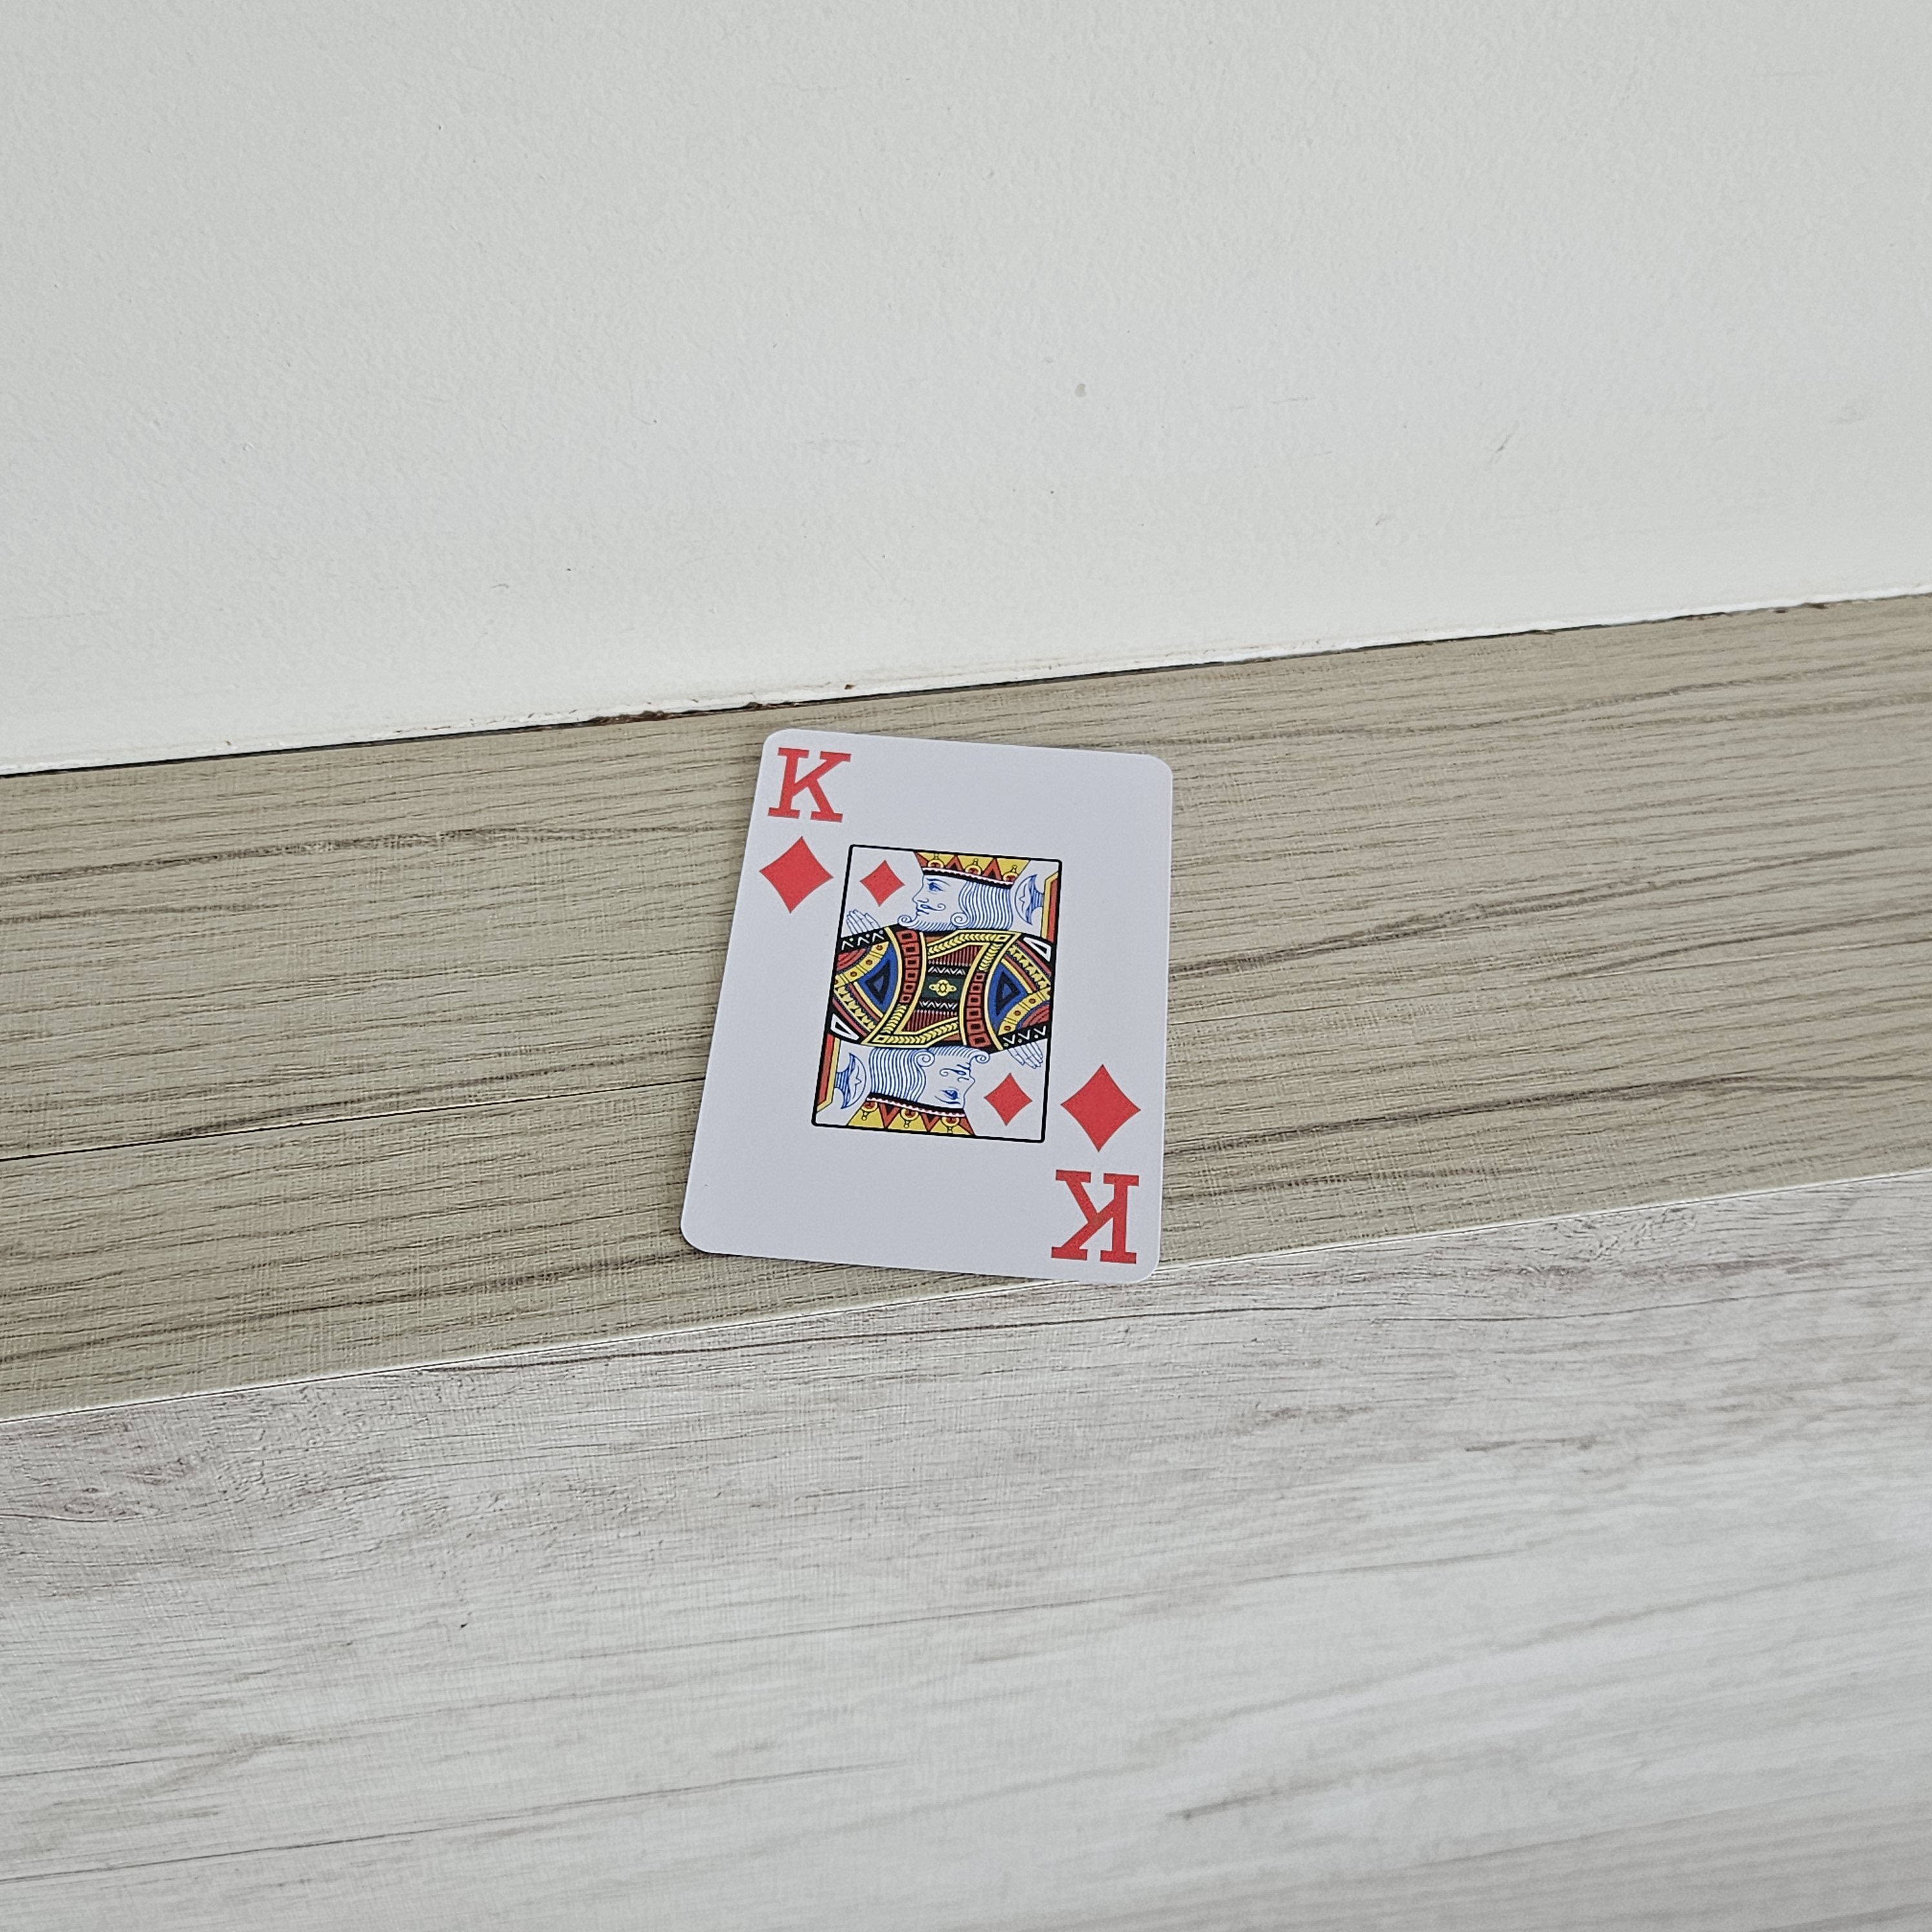KO: (1044, 1060, 1169, 1288), (754, 727, 860, 931)
